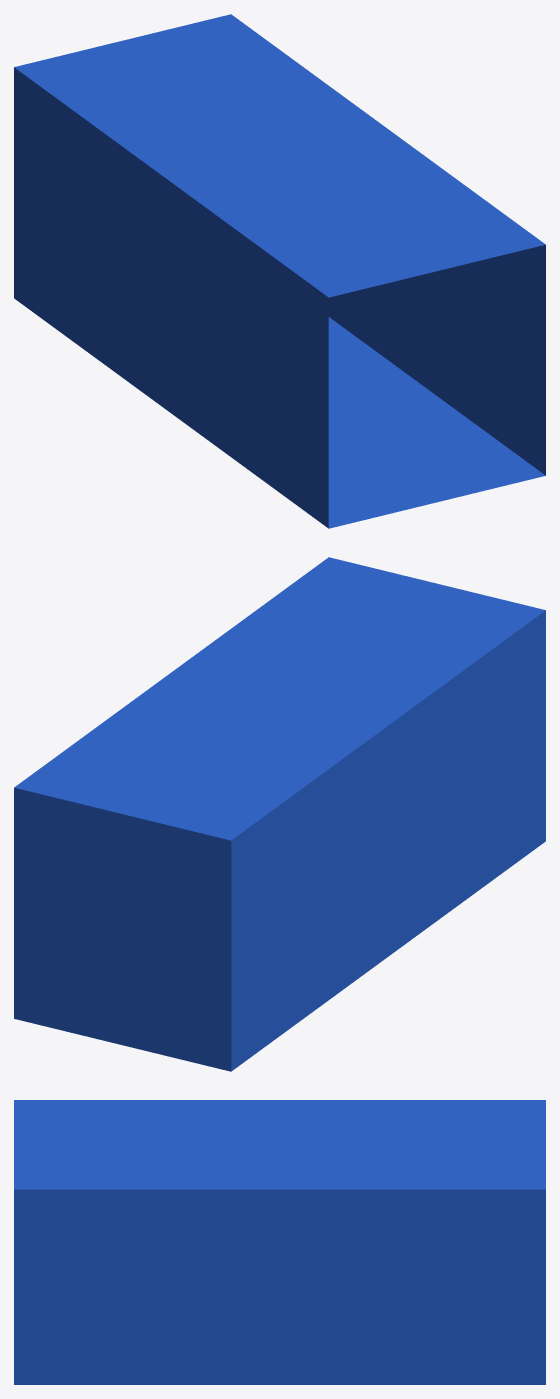
File: biniso20.fbx
The picture shows the model from 3 angles, top to bottom: view 1: azimuth 30°, elevation 25°; view 2: azimuth 150°, elevation 25°; view 3: azimuth 270°, elevation 25°; orthographic projection. The views are drawn at different scales.
Parts seen in each view (by area): view 1: binleft, bintop, binright, binbottom; view 2: binleft, bintop, binback; view 3: binright, bintop.
Part boxes in pixels (box(x1,y1,x2,y2)): binleft: box(14, 67, 328, 528); bintop: box(14, 14, 545, 297); binright: box(328, 244, 545, 475); binbottom: box(328, 317, 545, 528); binleft: box(231, 610, 545, 1071); bintop: box(14, 557, 545, 840); binback: box(14, 787, 231, 1071); binright: box(14, 1189, 545, 1384); bintop: box(14, 1100, 545, 1189).
Size of the model in its own units: 2350 by 2390 by 5900.
